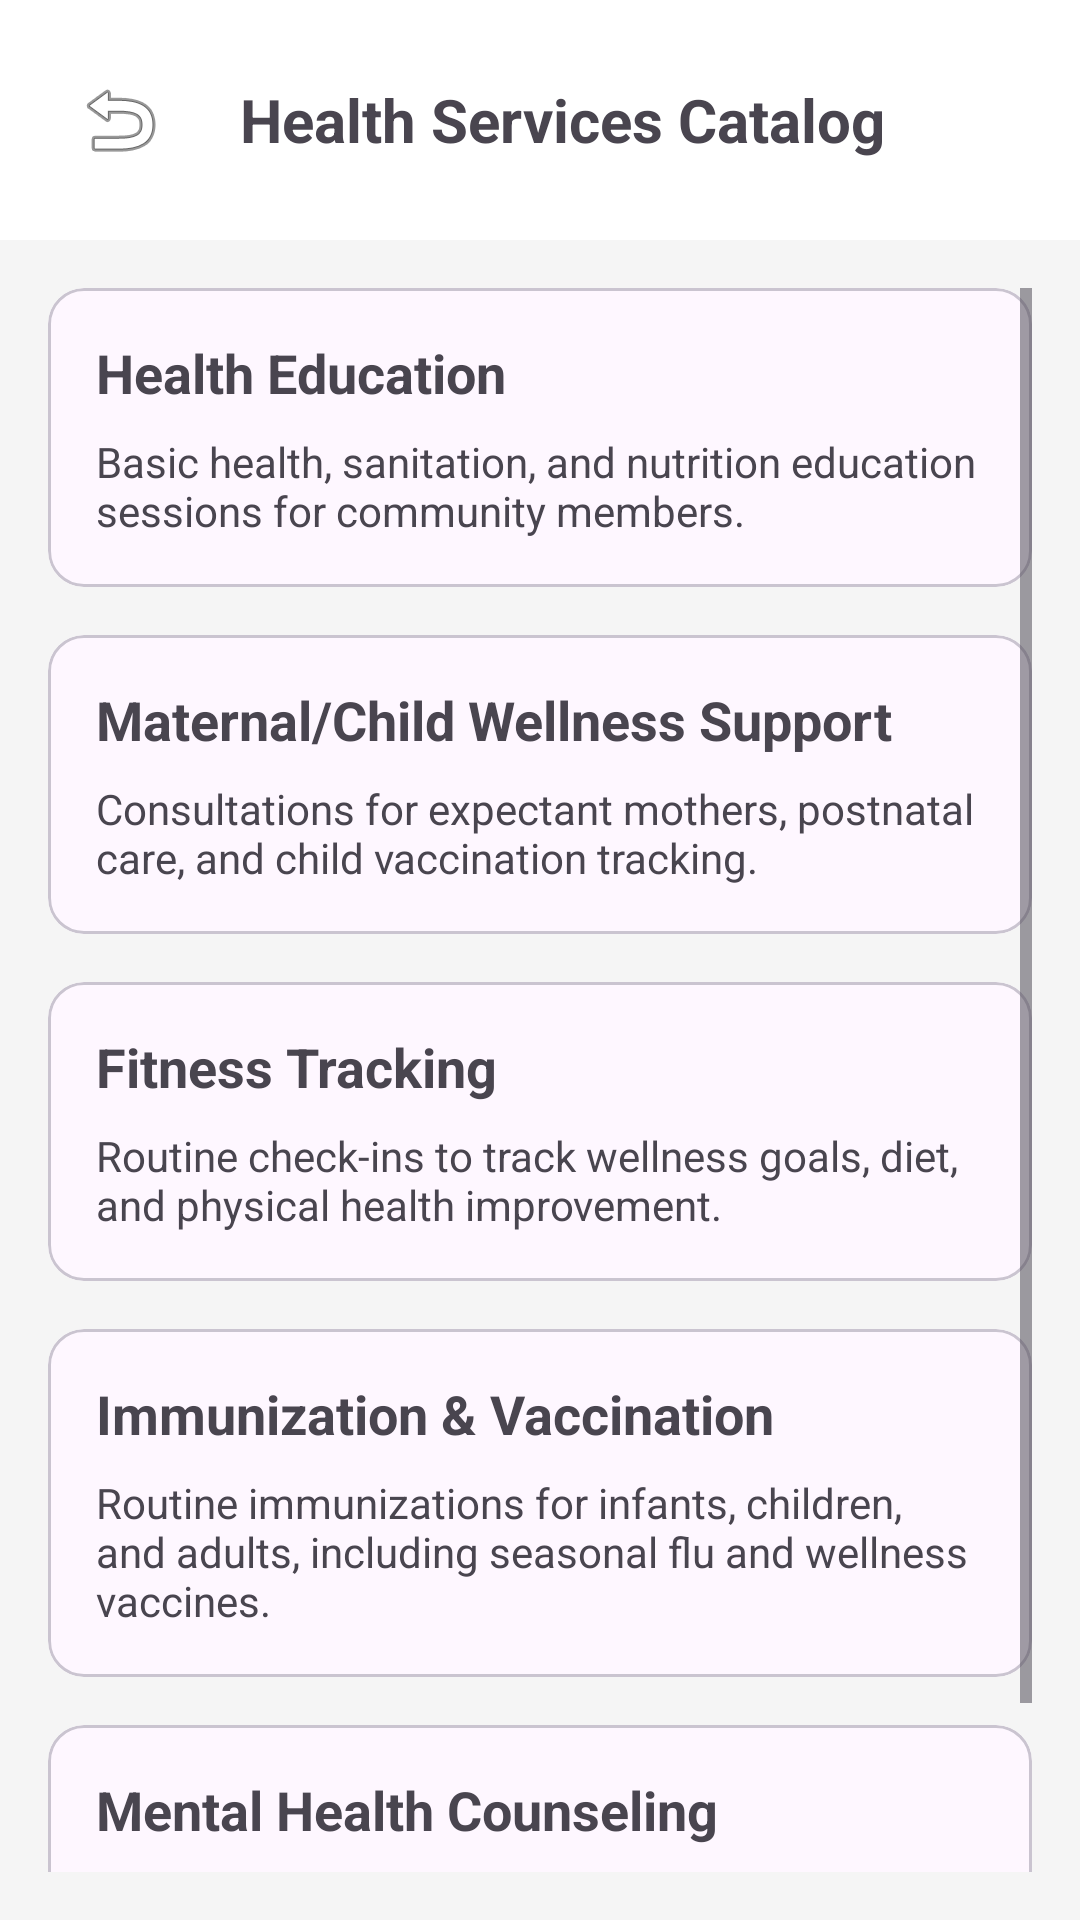

Icon bounding boxes for this 1080px x 1920px phone screenshot, format (x1, y1, x2, y2):
Go Back: (87, 89, 156, 152)
